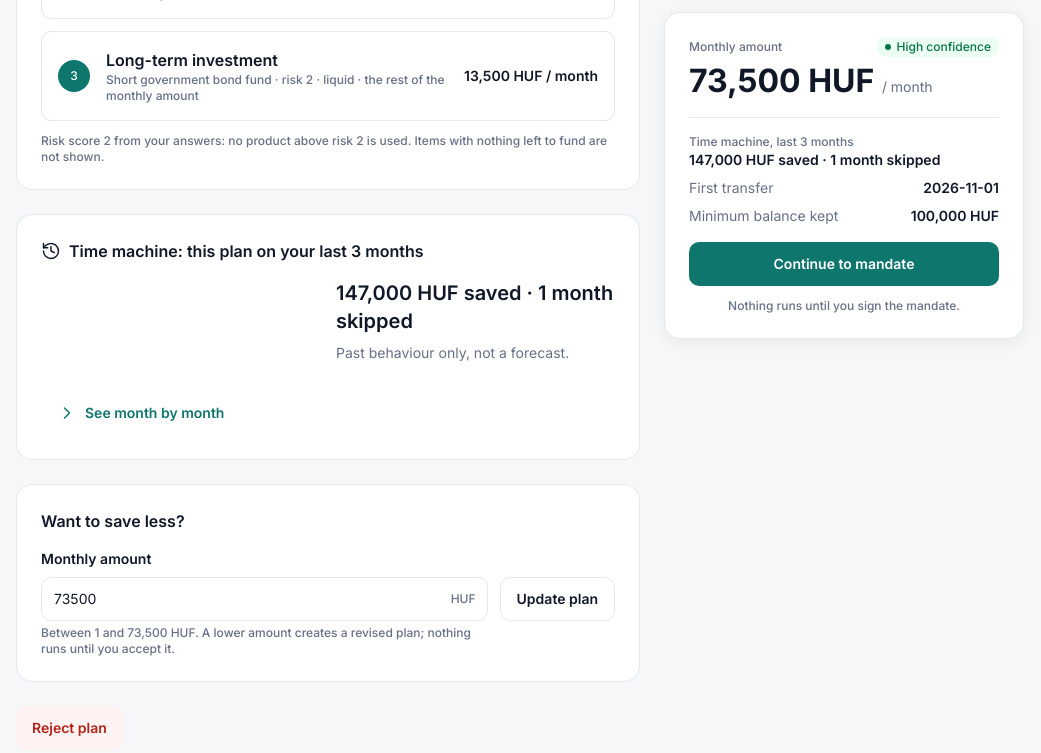
Test case: updating the amount sends a whole number and shows the revised plan
(page scrolled)
Replace the text in the field labelled "Monthly amount" with "50 000" at (264, 599), box [41,577,488,621]
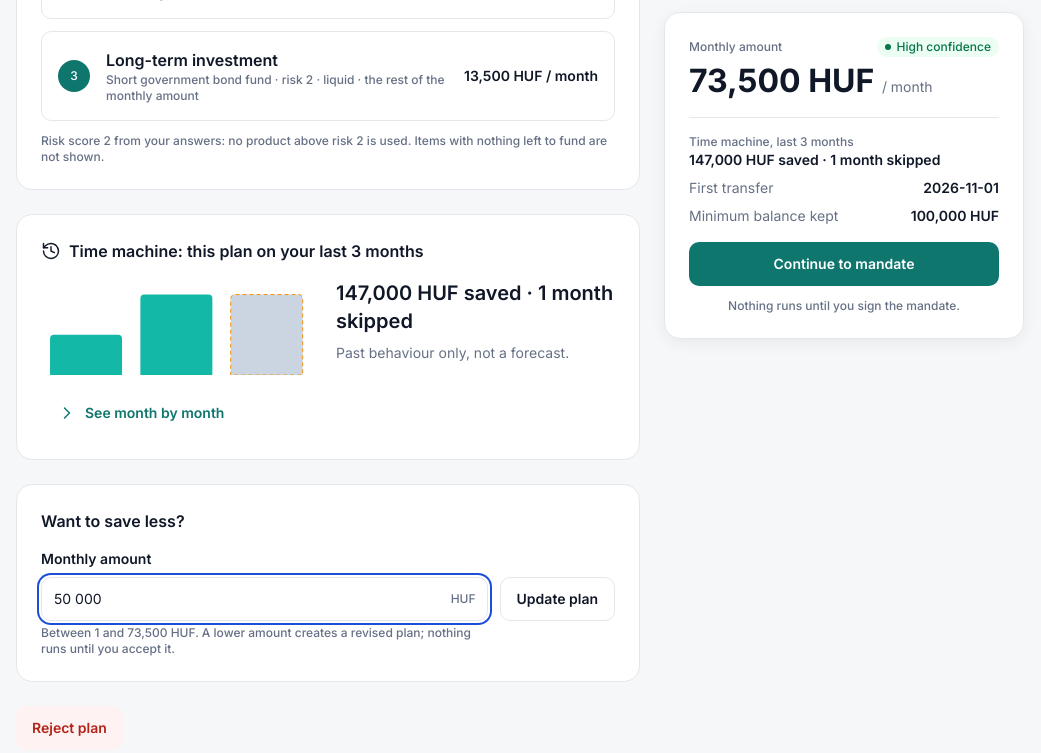
Click the button "Update plan" at (557, 599), box [500,577,615,621]
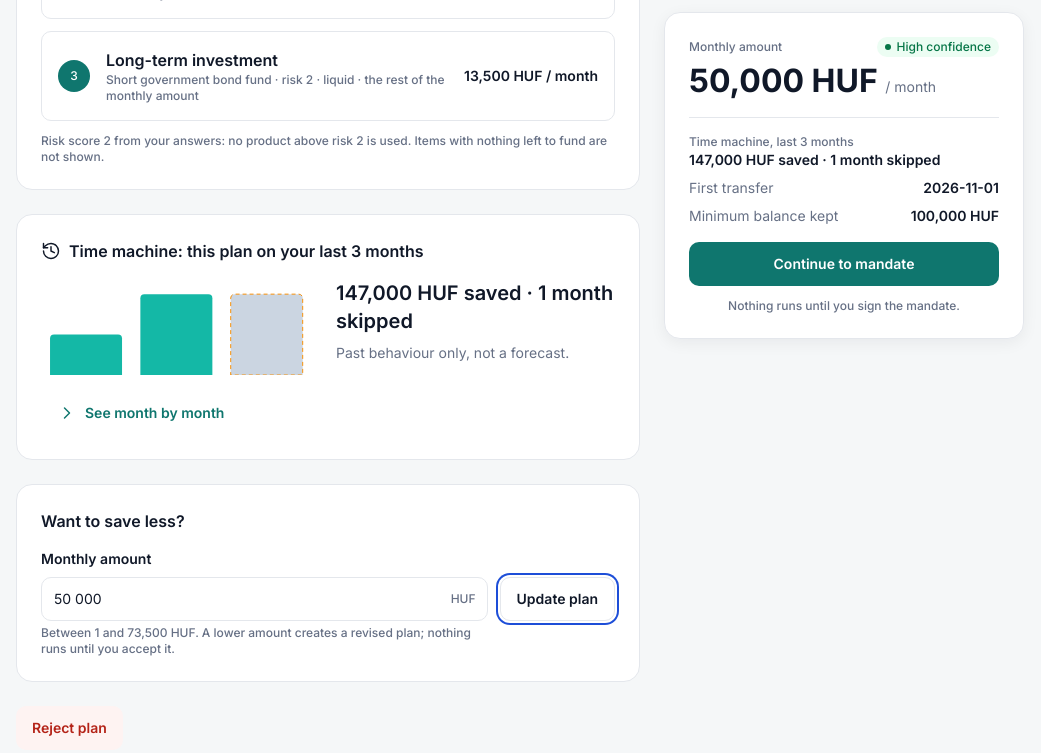
Expected: the text "50,000 HUF" is shown, [689,61,878,100]
